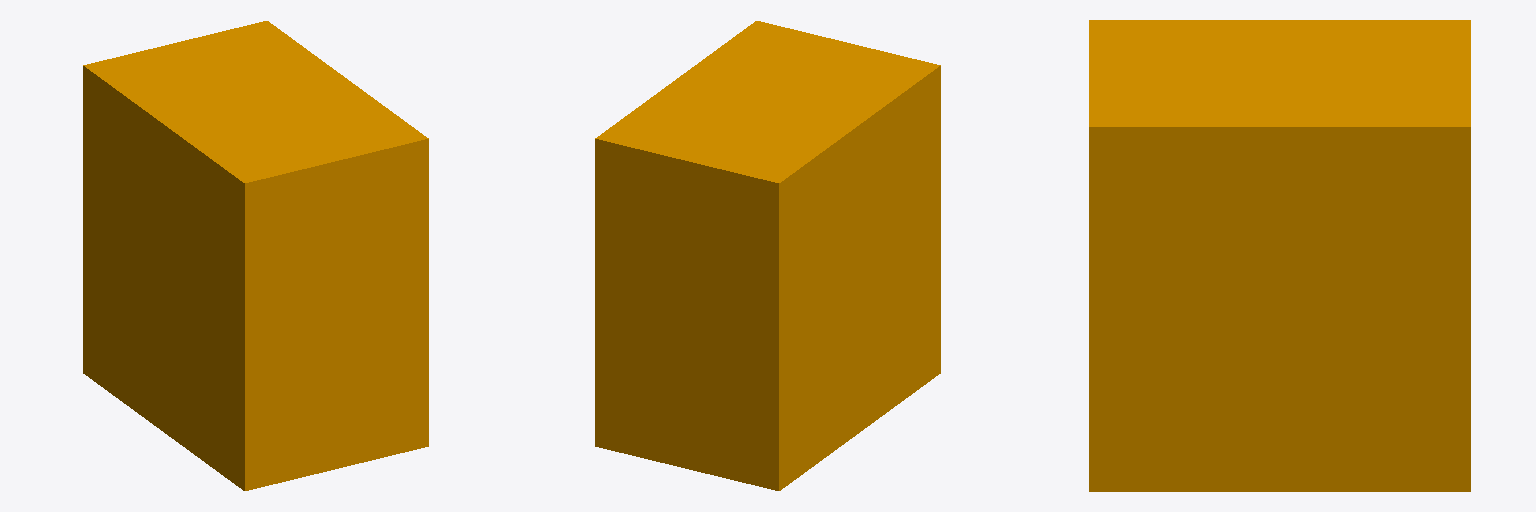
robot.urdf — box_2:
<robot name="box_2">
        <link name="base">
            <inertial>
                <mass value="0.2"/>
                <inertia ixx="0.0001" ixy="0" ixz="0" iyy="0.0001" iyz="0" izz="0.0001"/>
            </inertial>
            <visual>
                <geometry><mesh filename="box_2.obj" scale="1 1 1"/></geometry>
            </visual>
            <collision>
                <geometry><box size="0.04144851082286432 0.06294177495705322 0.0662201513767495"/></geometry>
            </collision>
        </link></robot>

--- What the picture shows (computed from the rendered views, not written in the file) ---
Views: 3 orthographic renders of the robot side by side, from view 1: azimuth 30°, elevation 25°; view 2: azimuth 150°, elevation 25°; view 3: azimuth 270°, elevation 25°.
Robot: box_2 — 1 links, 0 joints (none); root link base; default pose: every joint at zero.
Links seen in each view (by area): view 1: base; view 2: base; view 3: base.
Boxes of the visible links, x1,y1,x2,y2 form: base: (83, 21, 428, 490); base: (595, 21, 940, 490); base: (1089, 20, 1470, 491).
Bounding box of the posed robot: 0.0414 × 0.0629 × 0.0662 m (x, y, z).
Meshes: 1 distinct files referenced, 1 mesh visuals loaded (1 OBJ).
